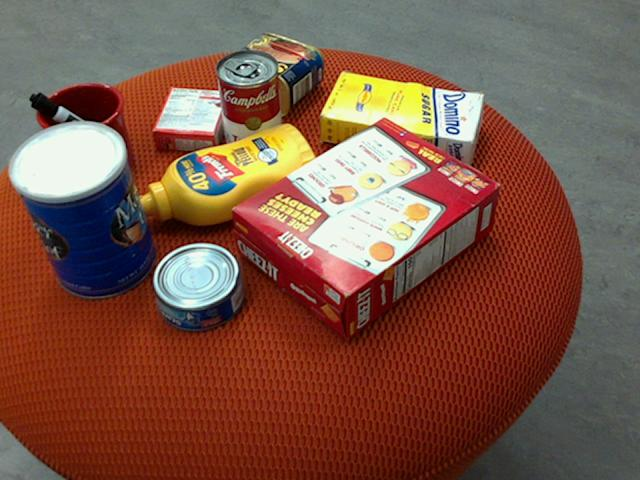cracker_box: (231, 116, 501, 338)
gelatin_box: (151, 86, 232, 151)
large_marker: (29, 92, 130, 163)
master_chef_can: (6, 121, 156, 299)
mug: (27, 83, 133, 186)
mustard_bottle: (132, 123, 321, 225)
potted_meat_can: (219, 33, 324, 116)
sugar_box: (320, 72, 486, 165)
tomato_soup_can: (216, 48, 282, 157)
tuna_fish_can: (152, 243, 245, 332)
